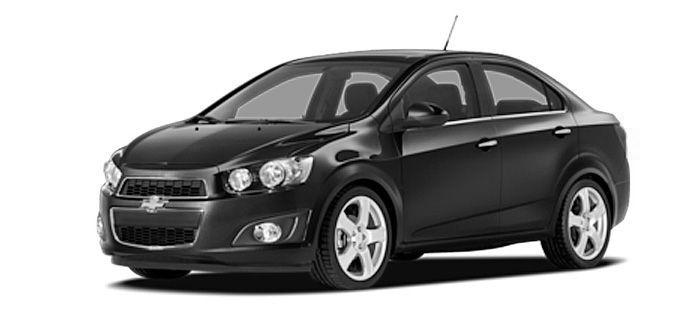car: (98, 15, 630, 294)
